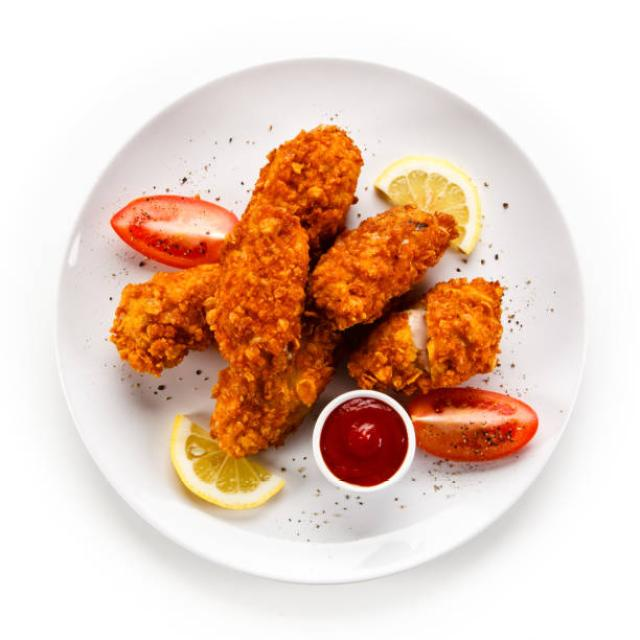Frango: (106, 122, 512, 464)
